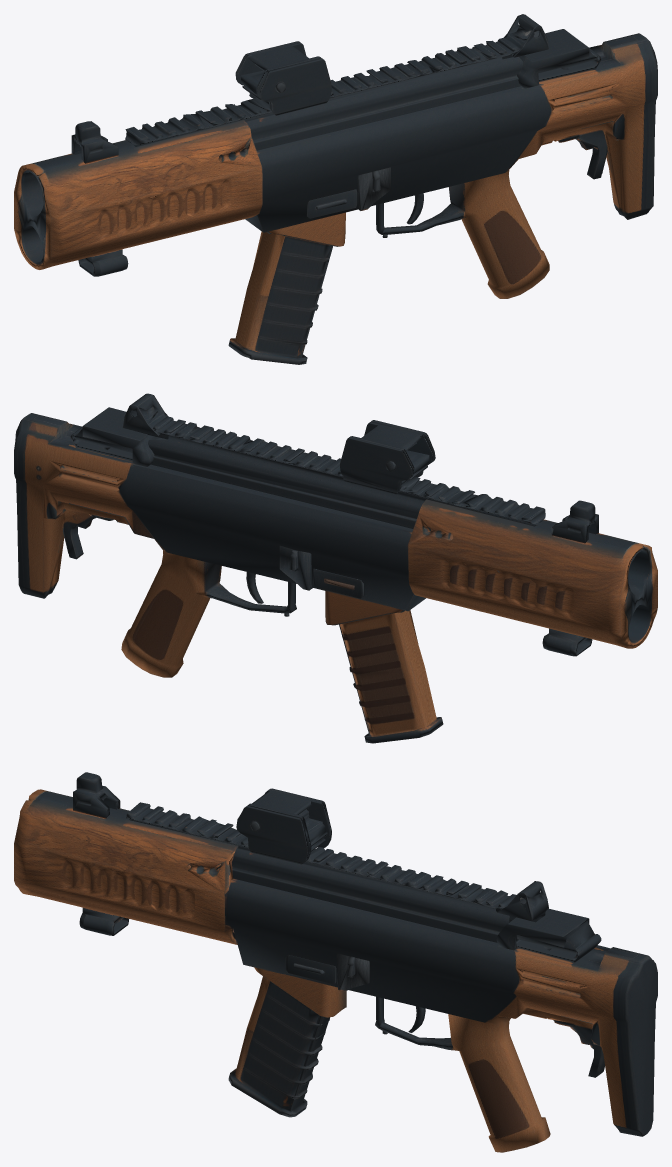
File: weapon-smg.glb
The picture shows the model from 3 angles, top to bottom: view 1: azimuth 30°, elevation 25°; view 2: azimuth 150°, elevation 25°; view 3: azimuth 330°, elevation 25°; orthographic projection.
Bounding box in the file's own units: 0.9565 × 0.4541 × 0.1011.
Materials: 1 (1 with a texture image).
